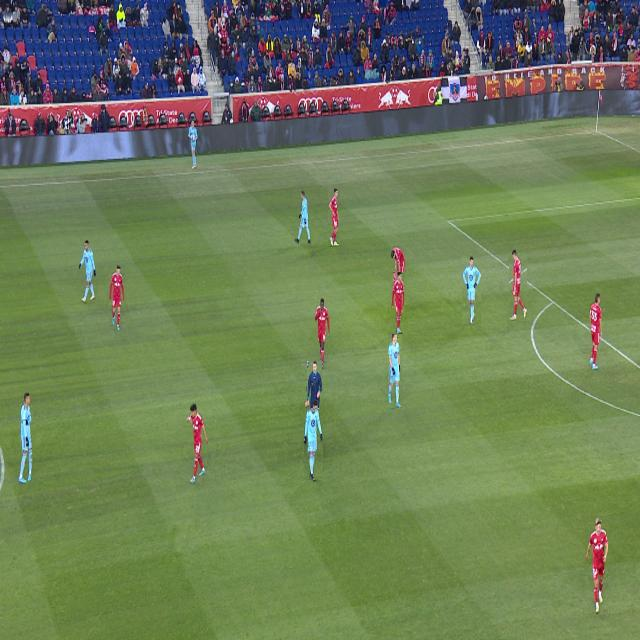player: (586, 518, 608, 614), (187, 403, 208, 482), (304, 401, 323, 480), (462, 256, 481, 324), (19, 393, 33, 483), (510, 250, 527, 321), (109, 265, 126, 330), (388, 332, 402, 408), (79, 240, 96, 302), (315, 299, 330, 368), (589, 293, 602, 370), (295, 190, 311, 244), (391, 273, 405, 334), (329, 189, 340, 246), (391, 247, 405, 288)
referee: (307, 362, 322, 409)
